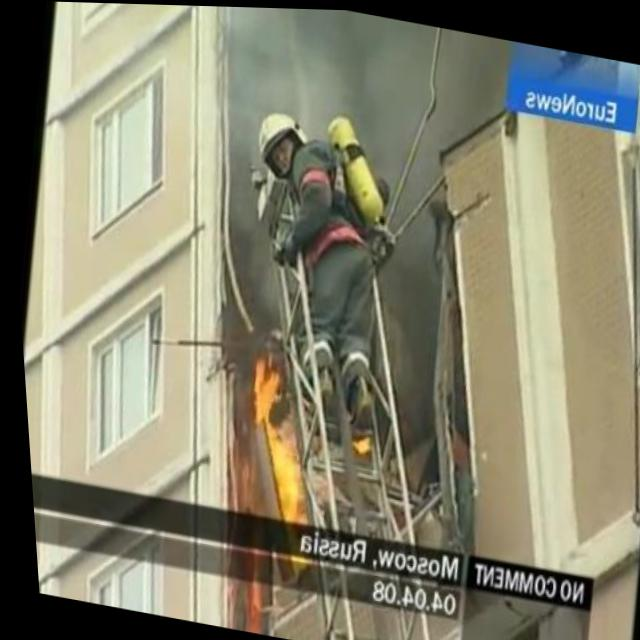fire: (218, 351, 324, 521), (344, 427, 370, 454)
